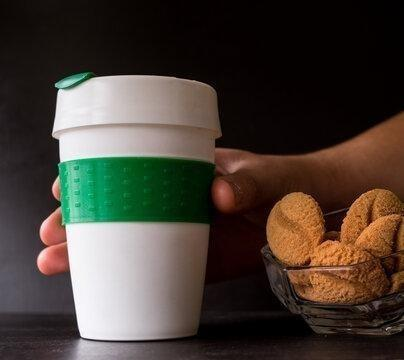cup-disposable: (49, 72, 224, 344)
